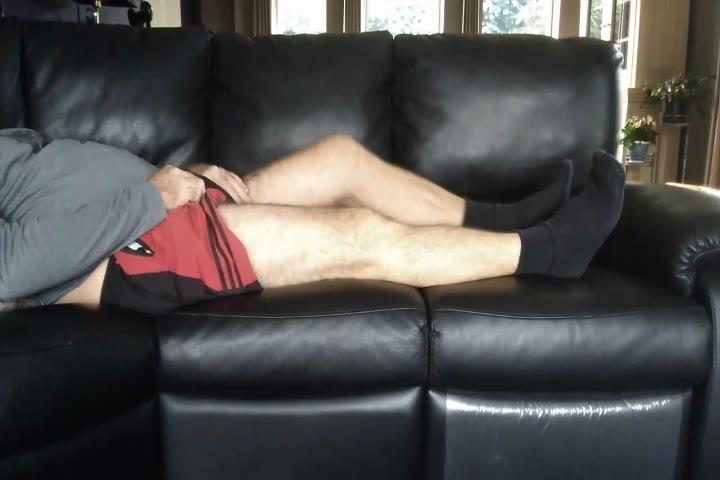lower_body: (103, 123, 636, 326)
